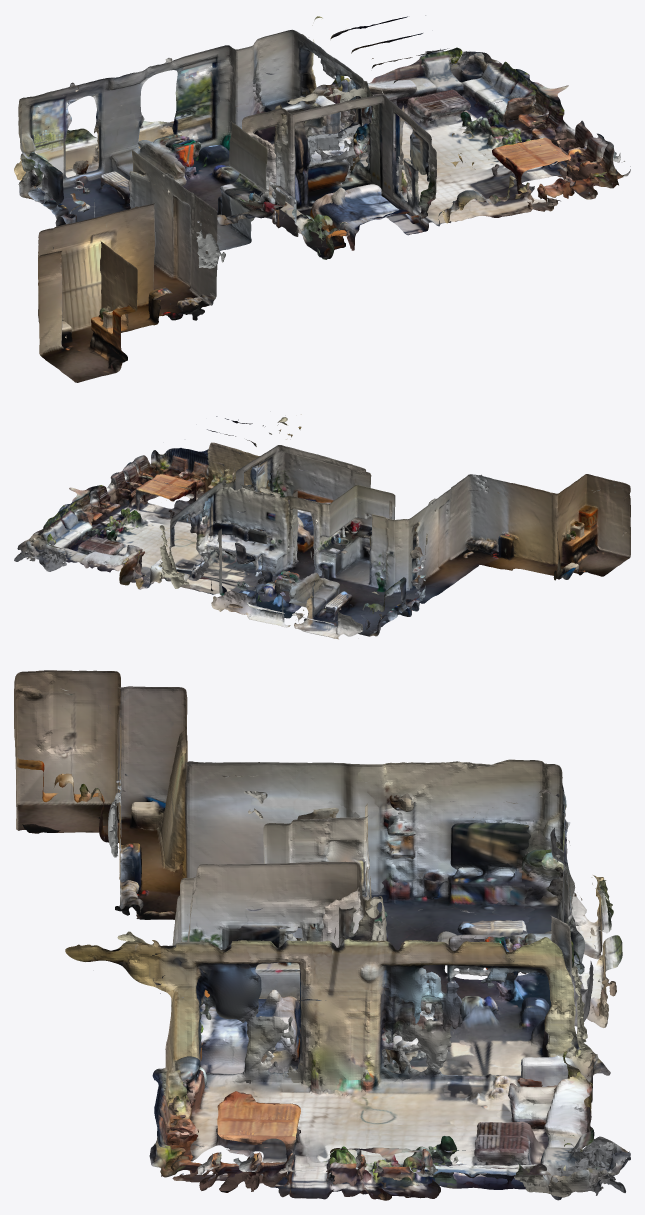
Rendered from scan.glb.
3 views of the same model, one above another, from view 1: azimuth 30°, elevation 25°; view 2: azimuth 150°, elevation 25°; view 3: azimuth 270°, elevation 25° (orthographic). The views are drawn at different scales.
Bounding box in the file's own units: 16.7 × 3.02 × 10.5.
Materials: 1 (1 with a texture image).
